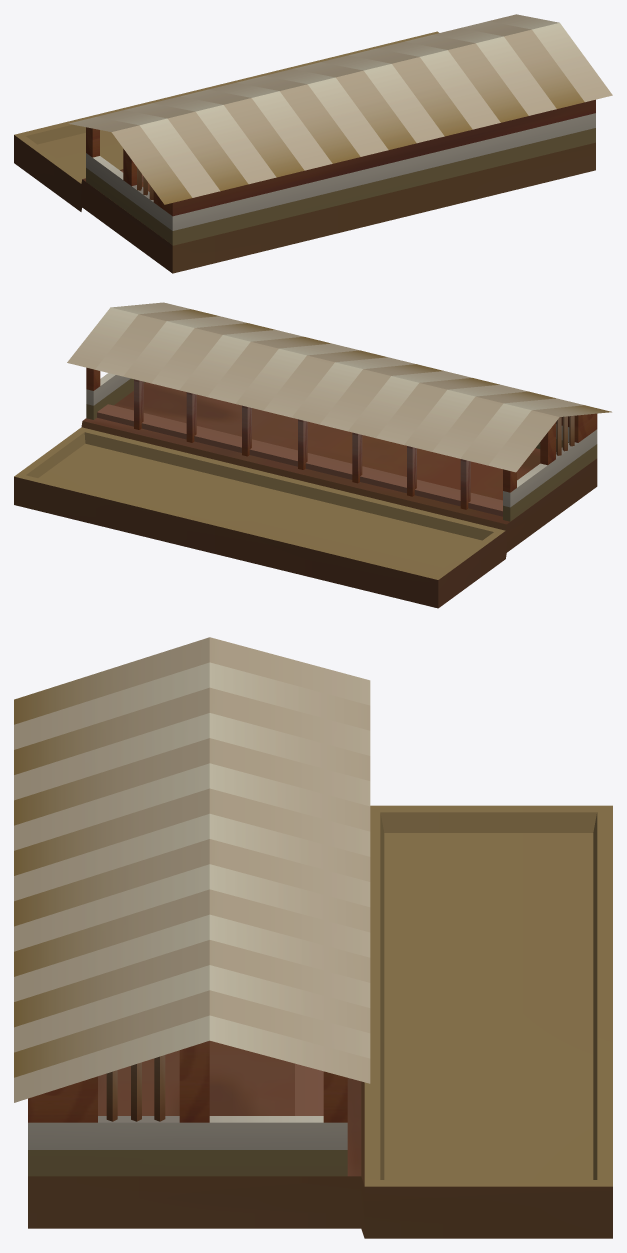
File: SM_Poultry_Farm_02.fbx
The picture shows the model from 3 angles, top to bottom: view 1: azimuth 30°, elevation 25°; view 2: azimuth 150°, elevation 25°; view 3: azimuth 270°, elevation 25°; orthographic projection. The views are drawn at different scales.
Parts seen in each view (by area): view 1: SM_PoultryFarmPart_01.001; view 2: SM_PoultryFarmPart_01.001; view 3: SM_PoultryFarmPart_01.001.
Boxes of the visible parts, box(x1,y1,x2,y2) form: SM_PoultryFarmPart_01.001: box(14, 14, 612, 273); SM_PoultryFarmPart_01.001: box(14, 302, 611, 608); SM_PoultryFarmPart_01.001: box(14, 637, 612, 1238).
Bounding box in the file's own units: 147 × 35.65 × 92.17.
